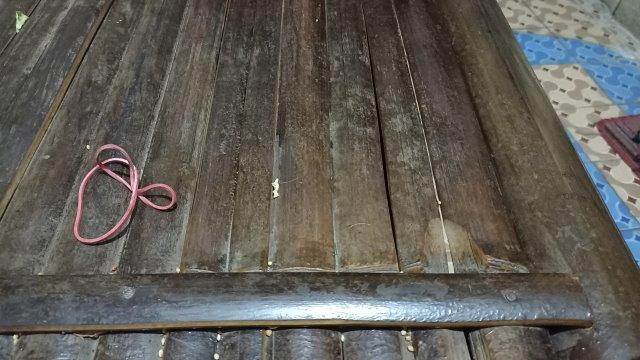karet: (73, 144, 176, 243)
